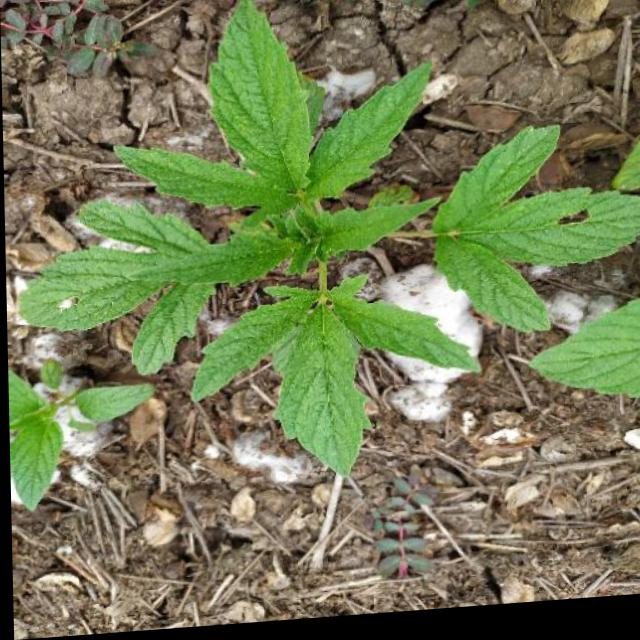crop: (2, 38, 639, 511)
